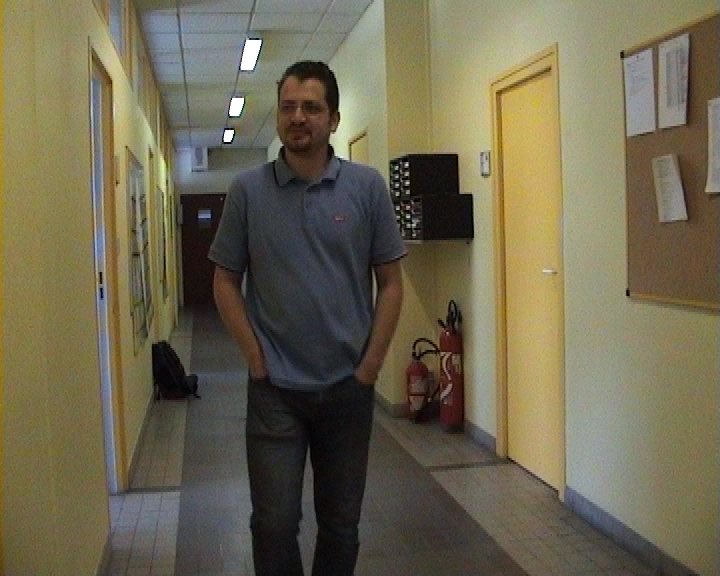leave bag unattended: (140, 336, 232, 483)
